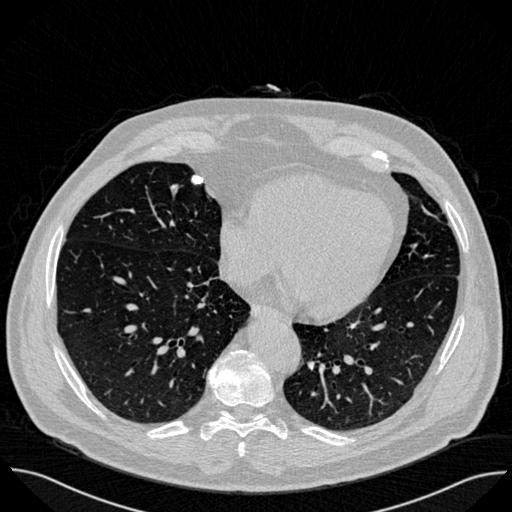nodule: (189, 172, 205, 188)
